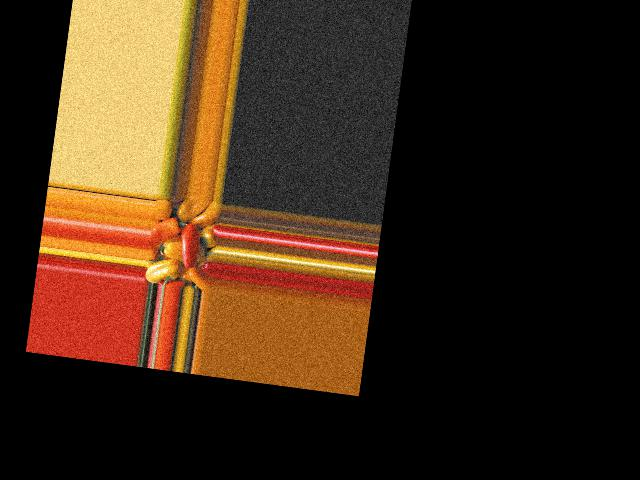bell_pepper: (145, 254, 179, 286)
